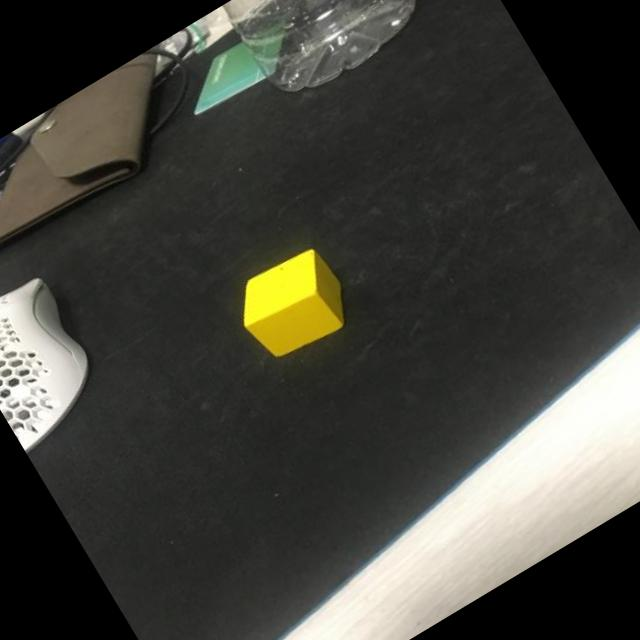yellow: (226, 239, 362, 371)
